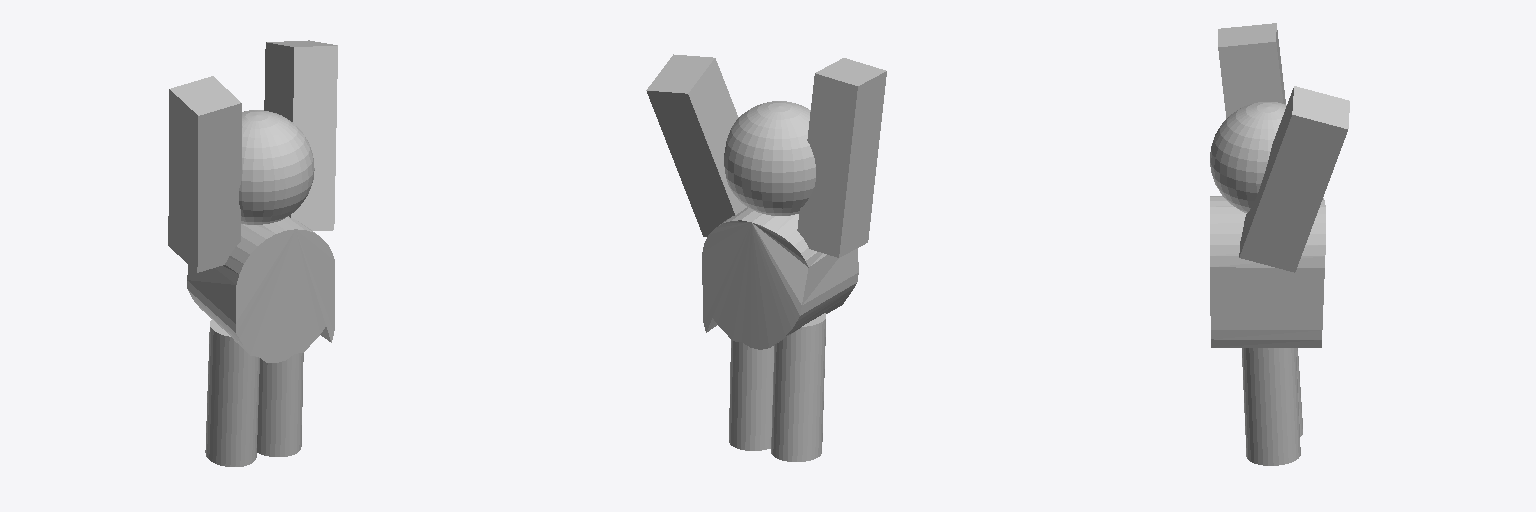
File: Figurine180.obj
3 renders of one model, left to right at view 1: azimuth 30°, elevation 25°; view 2: azimuth 150°, elevation 25°; view 3: azimuth 270°, elevation 25°, orthographic.
Parts seen in each view (by area): view 1: Cylinder; view 2: Cylinder; view 3: Cylinder.
Part boxes in pixels (x1,y1,x2,y2): Cylinder: (168, 40, 337, 466); Cylinder: (646, 54, 886, 461); Cylinder: (1210, 23, 1349, 465).
Bounding box in the file's own units: 3.52 × 7.32 × 2.42.